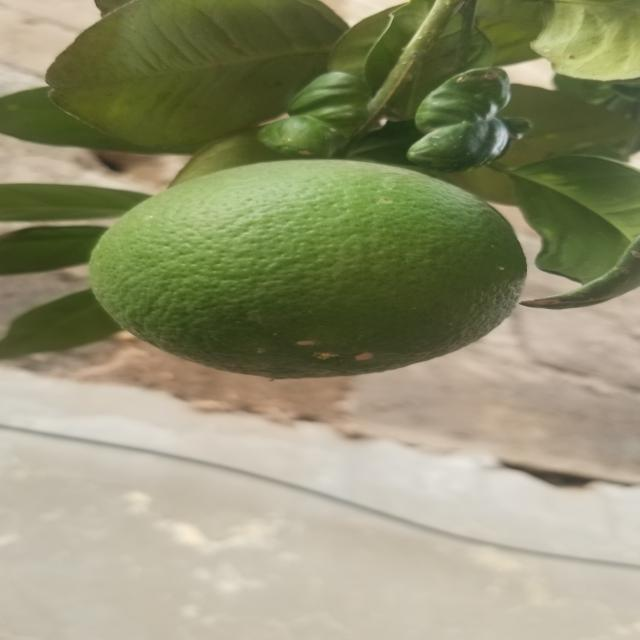Unripe: (91, 156, 542, 384)
